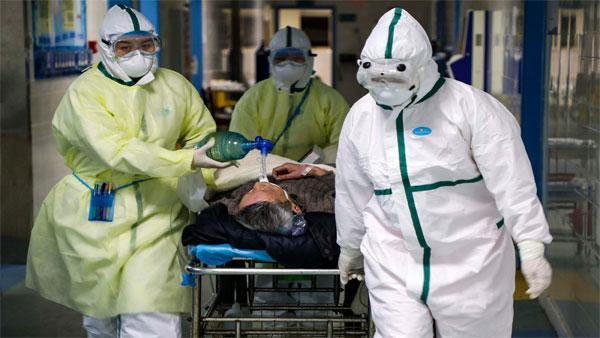Gloves: (516, 238, 553, 298), (193, 136, 238, 169), (337, 246, 365, 283)
Goggles: (355, 56, 419, 91), (109, 33, 160, 56), (270, 47, 306, 67)
